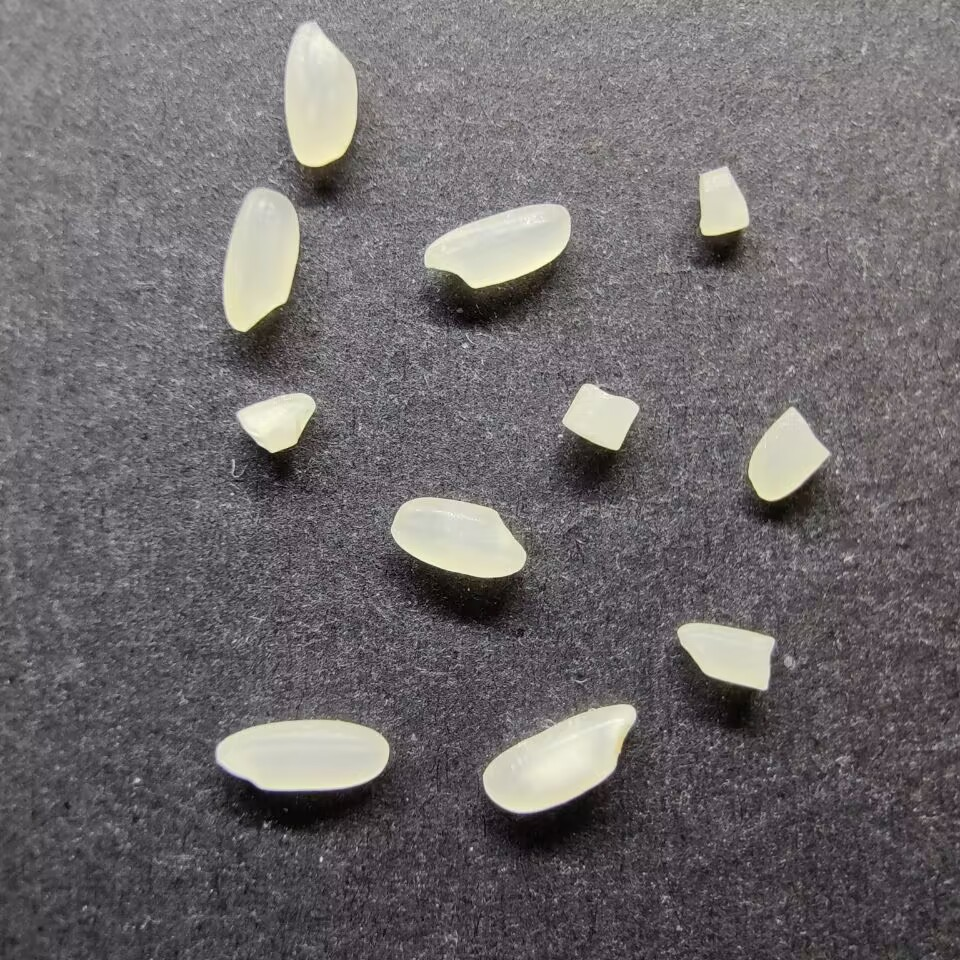broken: (746, 404, 831, 502), (675, 621, 776, 693), (560, 381, 640, 453), (234, 390, 316, 455), (693, 165, 752, 238)
rice: (481, 701, 635, 814), (421, 200, 571, 290), (213, 718, 390, 792), (390, 495, 528, 579), (281, 20, 359, 168), (220, 187, 298, 333)
